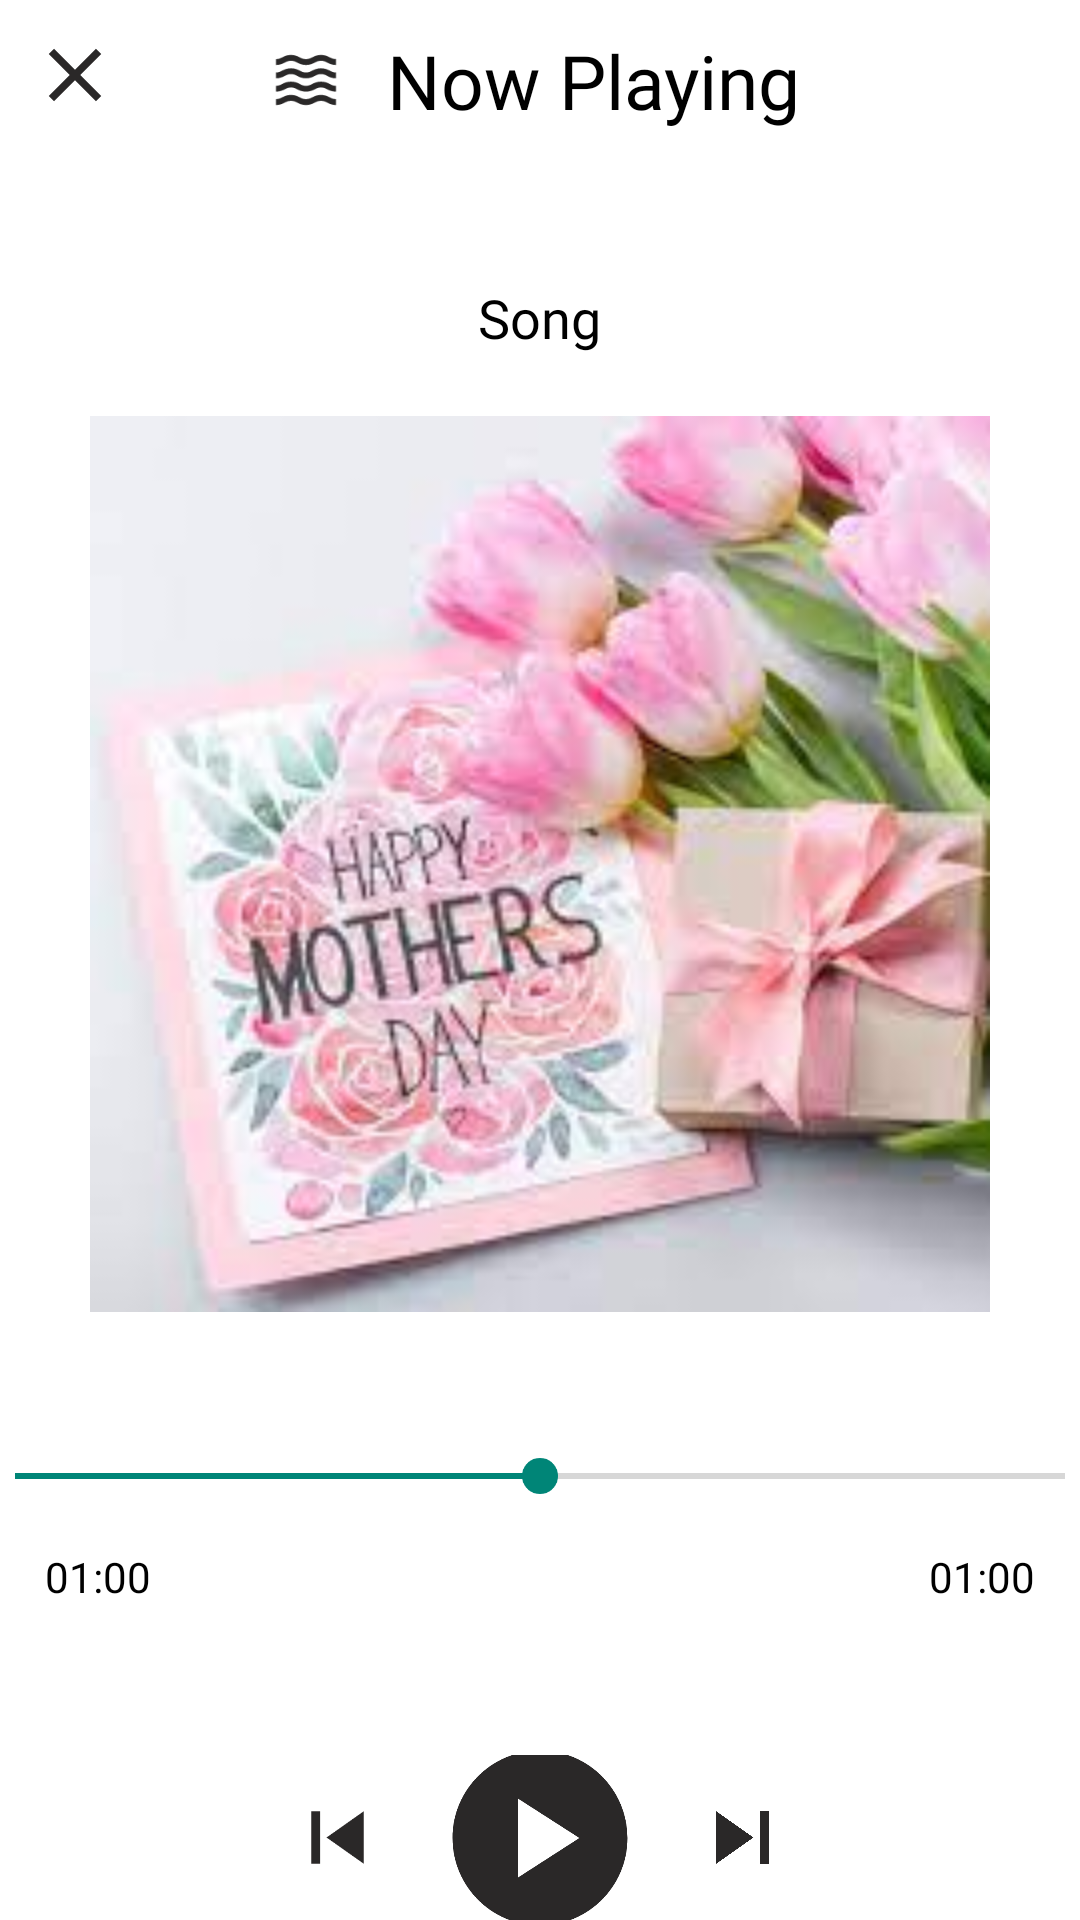

Icons on this 1080 × 1920 Android screen, each with its box as (x1, y1, x2, y2):
close: (49, 49, 101, 101)
skip next: (716, 1811, 769, 1864)
skip previous: (311, 1811, 364, 1864)
